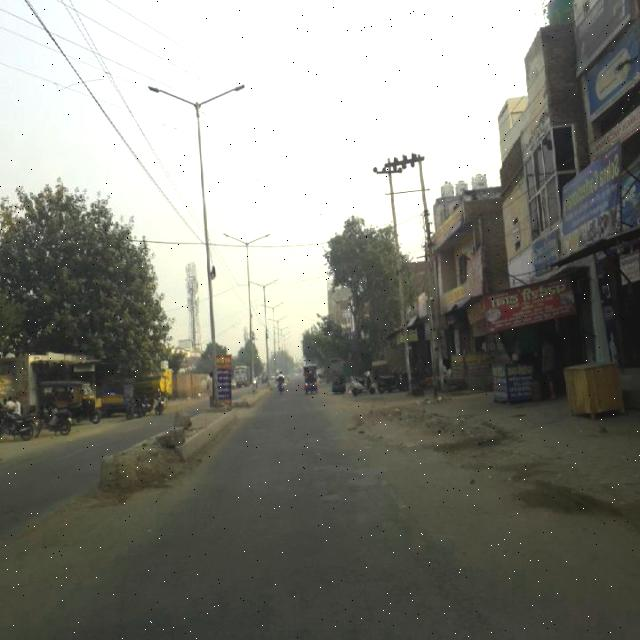D44: (306, 456, 390, 508)
